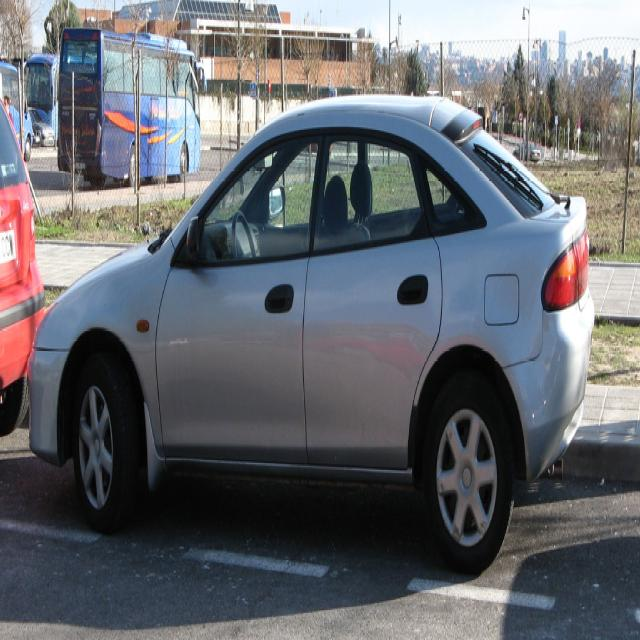car: (27, 93, 582, 561)
